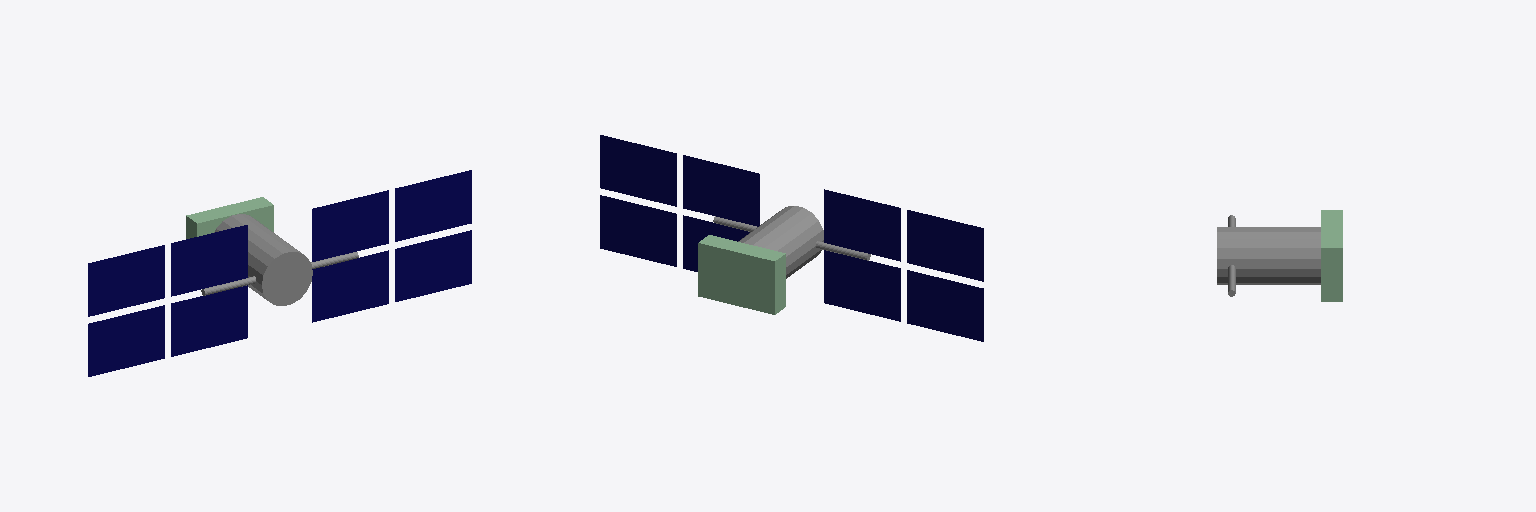
File: glok.obj
3 views of the same model, side by side, from view 1: azimuth 30°, elevation 25°; view 2: azimuth 150°, elevation 25°; view 3: azimuth 270°, elevation 25° (orthographic).
Parts seen in each view (by area): view 1: Cylinder01, Plane10, Plane01, Plane03, Plane13, Plane14, Plane11, Plane02, Plane12, Box01, Cylinder02; view 2: Box01, Plane13, Plane10, Plane03, Plane01, Plane14, Plane11, Plane02, Cylinder01, Plane12, Cylinder02; view 3: Cylinder01, Box01.
Boxes of the visible parts, <box> form: Cylinder01: <box>214,214,312,305</box>; Plane10: <box>88,245,164,316</box>; Plane01: <box>171,225,247,296</box>; Plane03: <box>88,305,164,376</box>; Plane13: <box>395,230,471,301</box>; Plane14: <box>395,170,471,241</box>; Plane11: <box>312,190,388,261</box>; Plane02: <box>171,285,247,356</box>; Plane12: <box>312,250,388,322</box>; Box01: <box>186,197,273,238</box>; Cylinder02: <box>201,252,358,295</box>; Box01: <box>698,235,785,314</box>; Plane13: <box>600,195,676,266</box>; Plane10: <box>907,210,983,281</box>; Plane03: <box>907,270,983,341</box>; Plane01: <box>824,189,900,261</box>; Plane14: <box>600,135,676,206</box>; Plane11: <box>683,155,759,226</box>; Plane02: <box>824,250,900,321</box>; Cylinder01: <box>738,206,823,278</box>; Plane12: <box>683,215,749,271</box>; Cylinder02: <box>713,216,870,260</box>; Cylinder01: <box>1217,227,1320,284</box>; Box01: <box>1321,210,1342,301</box>.
Bounding box in the file's own units: 0.6 × 0.17 × 0.17.